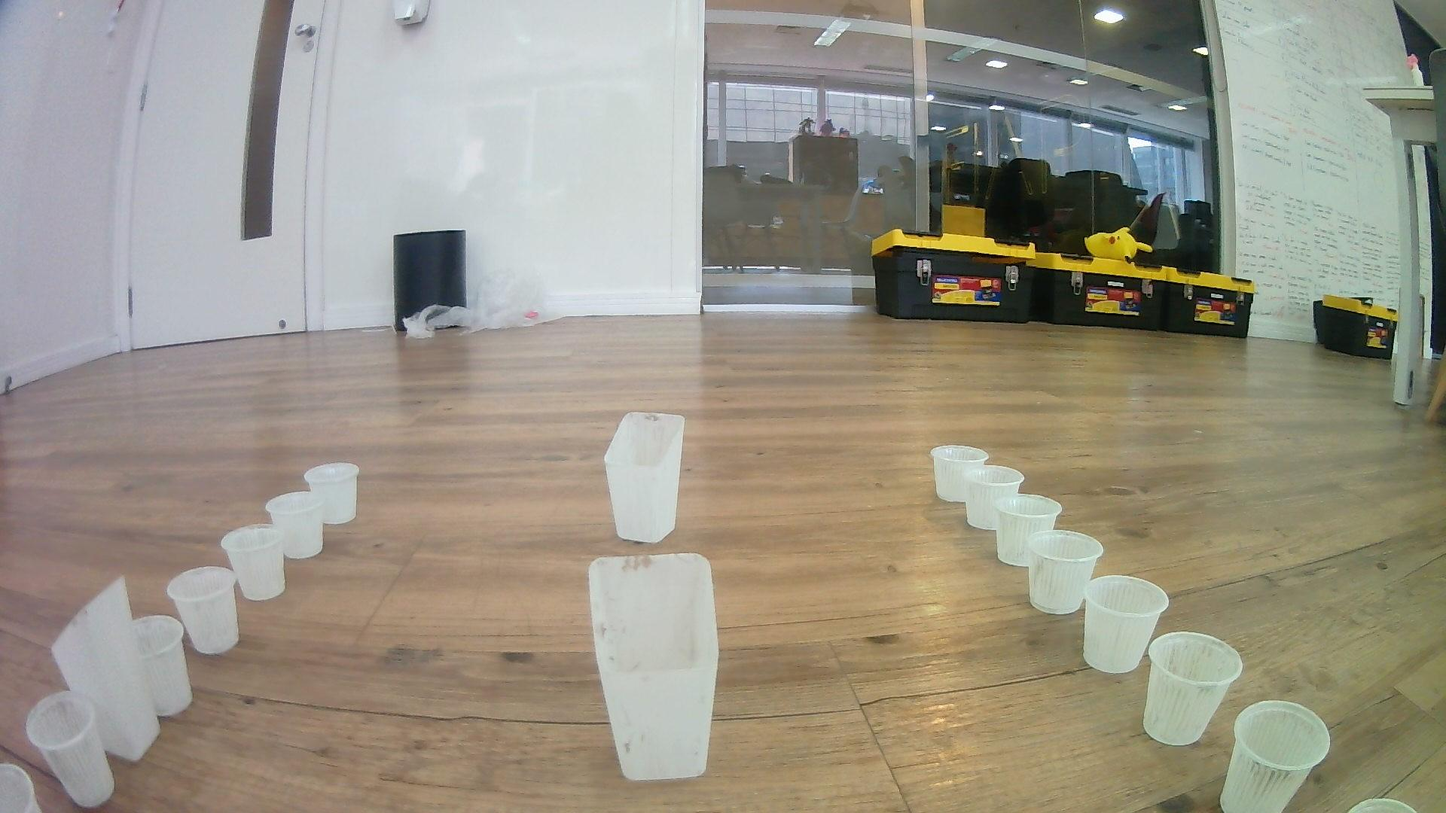erva_daninha: (587, 552, 720, 782), (49, 574, 165, 763), (603, 410, 686, 545)
planta: (1219, 699, 1332, 813), (1142, 631, 1244, 747), (23, 689, 117, 809), (1082, 574, 1170, 674), (124, 614, 192, 717), (1028, 529, 1106, 616), (166, 566, 241, 655), (220, 523, 288, 603), (994, 493, 1063, 568), (264, 490, 326, 561), (964, 464, 1026, 531), (303, 461, 361, 525), (929, 445, 990, 504), (0, 762, 43, 813), (1344, 797, 1418, 813)
